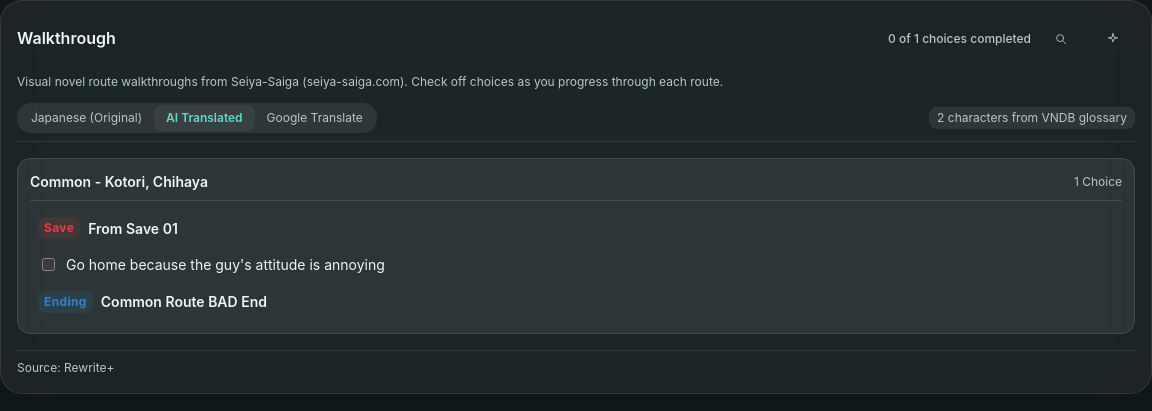
WalkthroughCard › allows switching language mode back to original Japanese
Click the button "Japanese (Original)": x=87, y=118 [19,105,154,131]
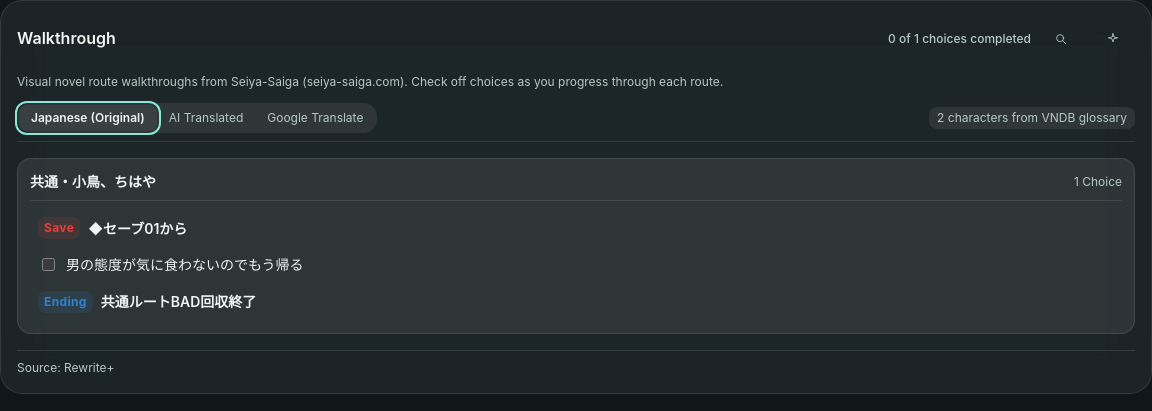
expect the text "共通・小鳥、ちはや" is shown: met, box [30,171,156,192]
expect the text "男の態度が気に食わないのでもう帰る" is shown: met, box [66,255,304,275]
